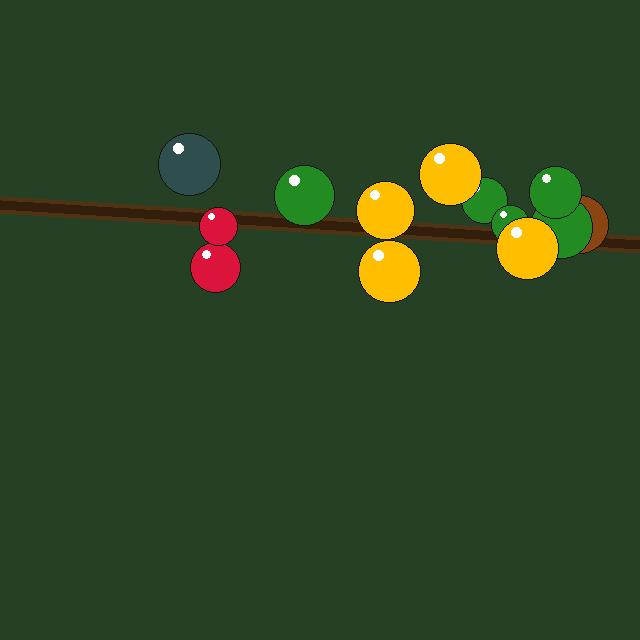Dry_Damaged: (158, 133, 220, 195)
Overripe: (550, 195, 608, 253)
Ripe: (190, 242, 240, 292), (199, 207, 237, 245)
Ripening: (358, 240, 420, 302), (419, 143, 481, 205), (496, 217, 558, 279), (356, 181, 414, 239)
Unripe: (530, 196, 592, 258), (274, 165, 334, 225), (529, 166, 581, 218), (461, 177, 507, 223), (561, 205, 599, 243), (491, 205, 529, 243)
